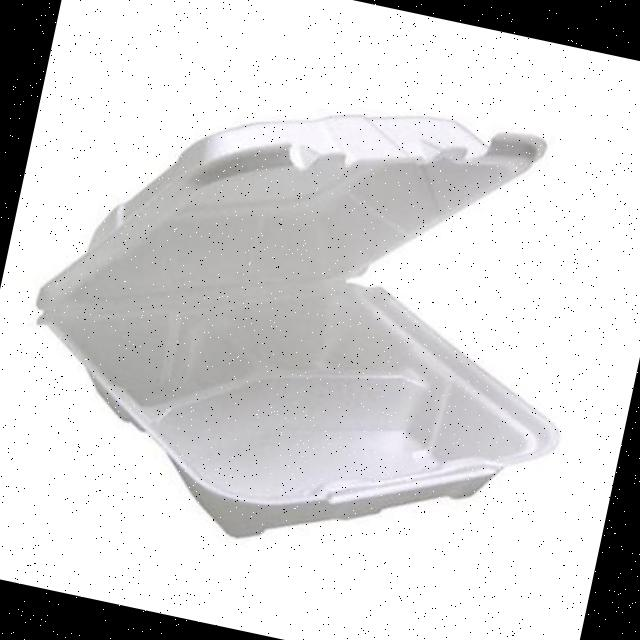styrofoam: (0, 35, 622, 600)
